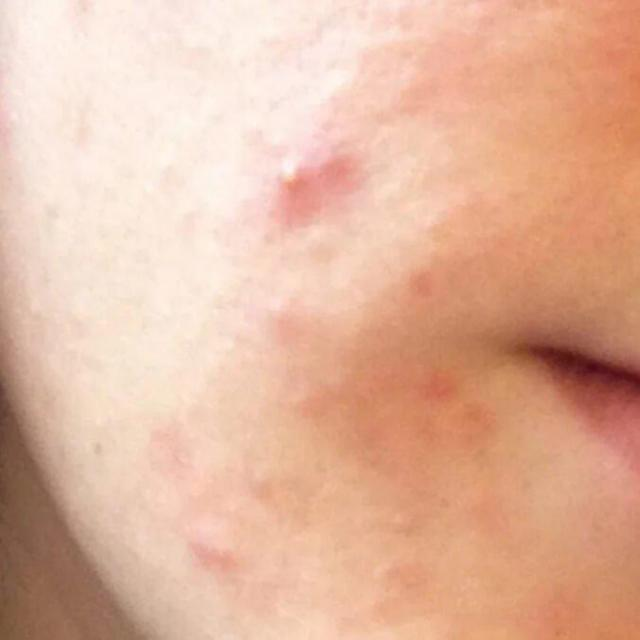blackheads: (264, 136, 354, 221), (181, 524, 233, 560), (276, 160, 303, 192)
